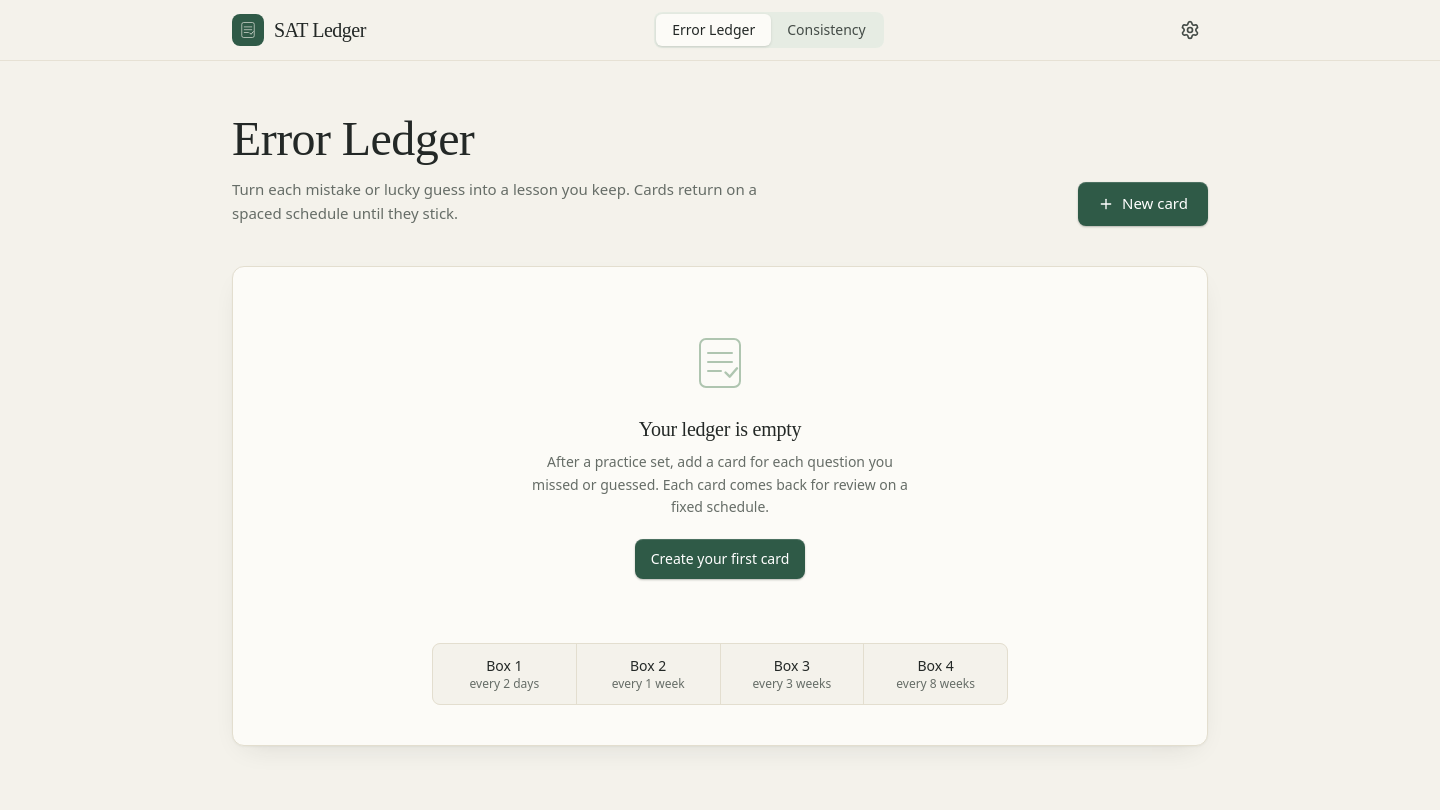
Consistency › navigates between weeks, but never into the future
Later steps or results of the test are not shown.
Click the tab "Consistency" at (826, 30), box [771,14,882,46]
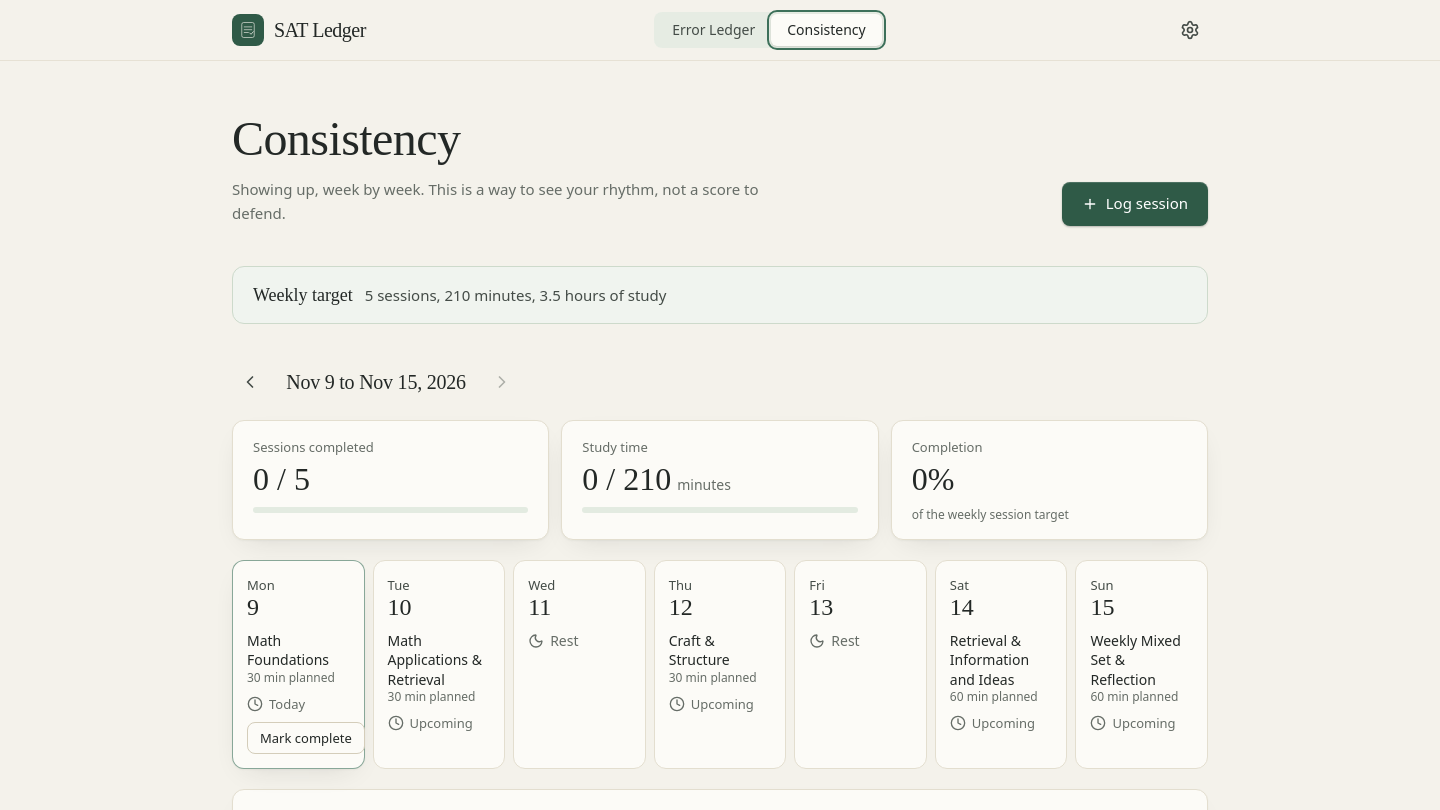
Expected: the button named "Next week" is disabled, [484,364,520,400]
Expected: the heading "Consistency" is shown, [232,112,460,165]
Click the button named "Previous week" at (250, 382), box [232,364,268,400]
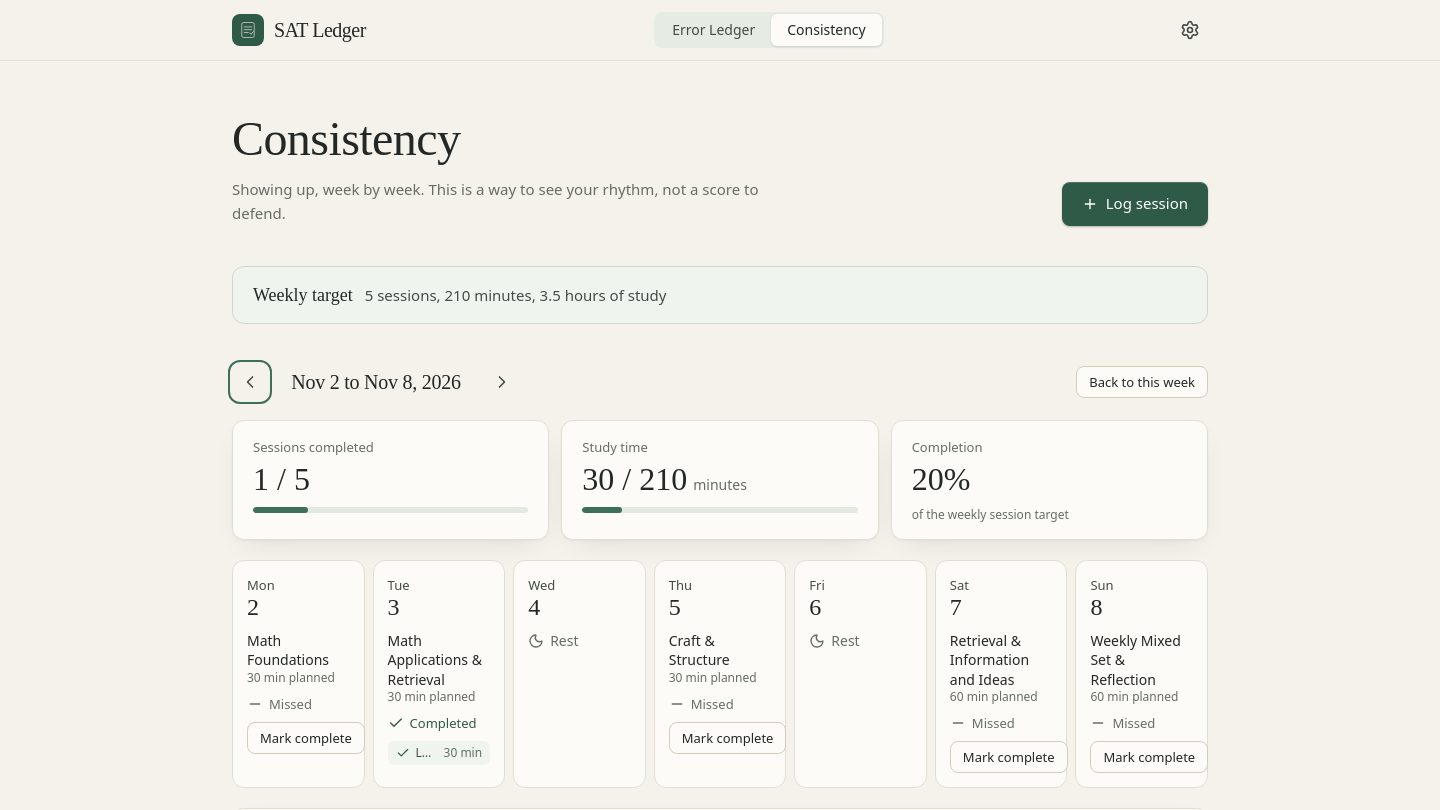
Expected: the button named "Next week" is enabled, [484,364,520,400]
Expected: the text "1 / 5" is shown, [253,459,310,499]
